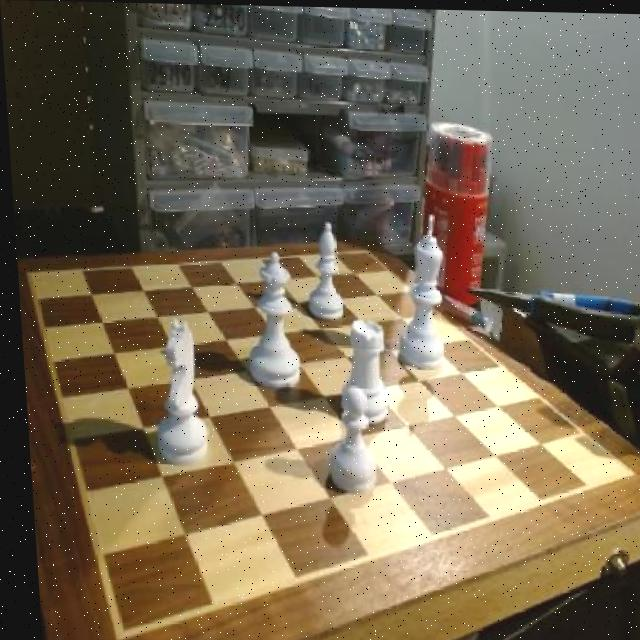black-rook: (302, 217, 341, 323)
white-bishop: (391, 214, 448, 375)
white-king: (143, 321, 203, 466)
white-knight: (317, 384, 375, 498)
white-pawn: (242, 249, 299, 393)
white-queen: (330, 310, 392, 435)
